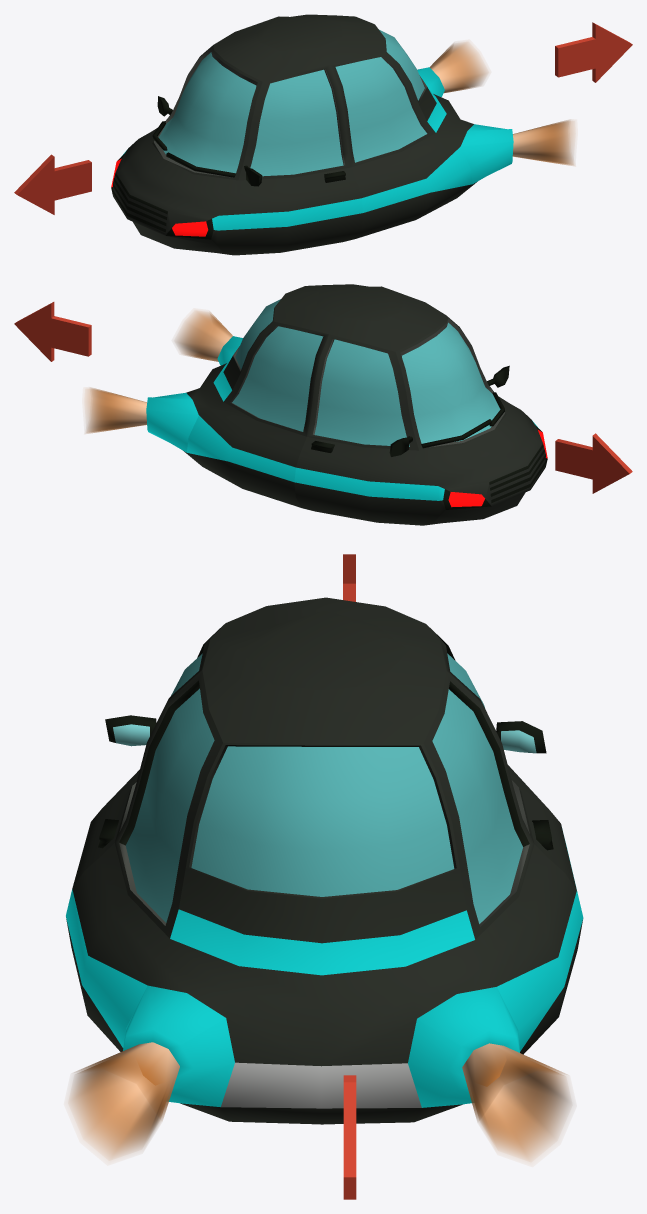
The model's file is Horizontal_Flying_Car_Black.glb.
The picture shows the model from 3 angles, top to bottom: view 1: azimuth 30°, elevation 25°; view 2: azimuth 150°, elevation 25°; view 3: azimuth 270°, elevation 25°; orthographic projection. The views are drawn at different scales.
Parts seen in each view (by area): view 1: flyingCar_Black, arrowUP, arrowDown; view 2: flyingCar_Black, arrowDown, arrowUP; view 3: flyingCar_Black, arrowUP.
Boxes of the visible parts, bbox=[...] form: flyingCar_Black: bbox=[111, 14, 574, 255]; arrowUP: bbox=[555, 22, 632, 82]; arrowDown: bbox=[14, 154, 91, 214]; flyingCar_Black: bbox=[85, 284, 547, 525]; arrowDown: bbox=[555, 433, 632, 493]; arrowUP: bbox=[14, 302, 91, 361]; flyingCar_Black: bbox=[66, 597, 583, 1161]; arrowUP: bbox=[343, 1075, 356, 1199].
Bounding box in the file's own units: 7.62 × 2.22 × 2.79.
3 materials, 3 textured.
